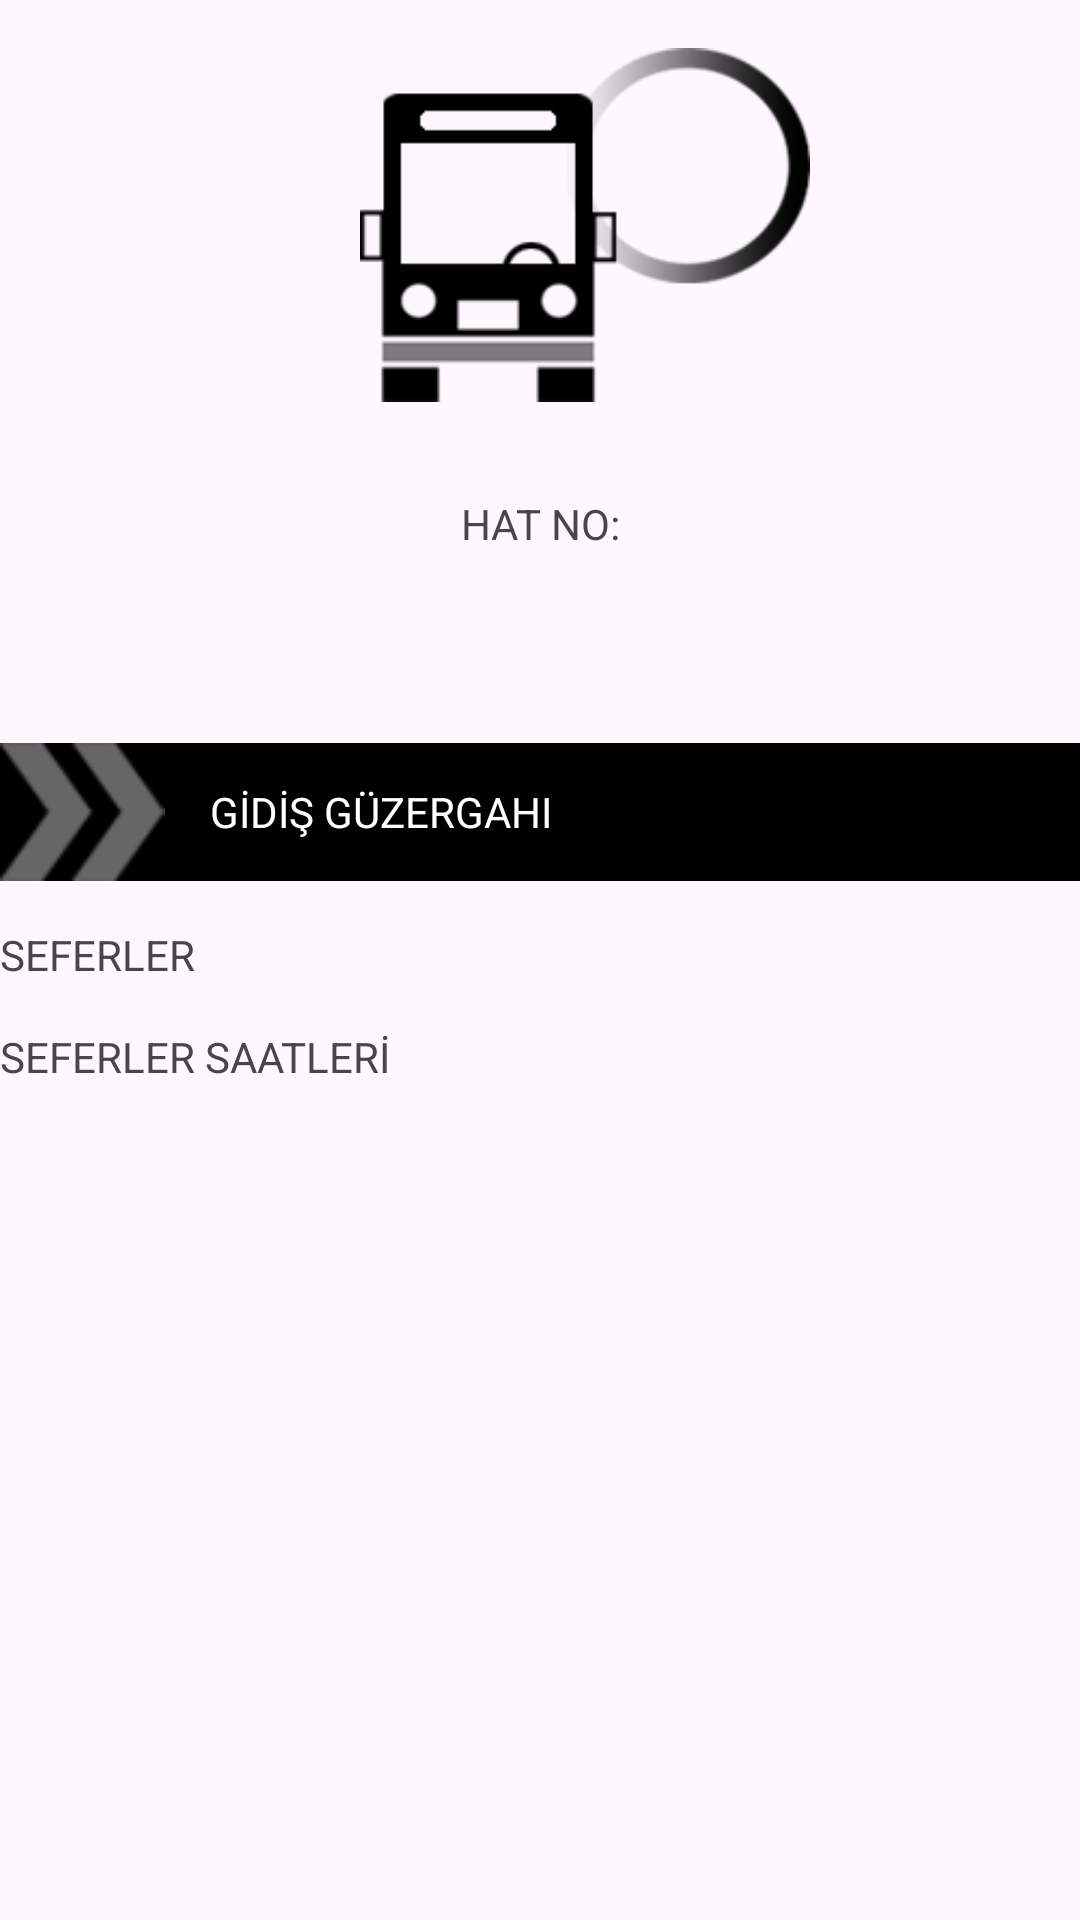

Where icons sit on this 1080w x 1920h app screen, as (x1, y1, x2, y2):
otobus gidis ok: (0, 743, 165, 881)
